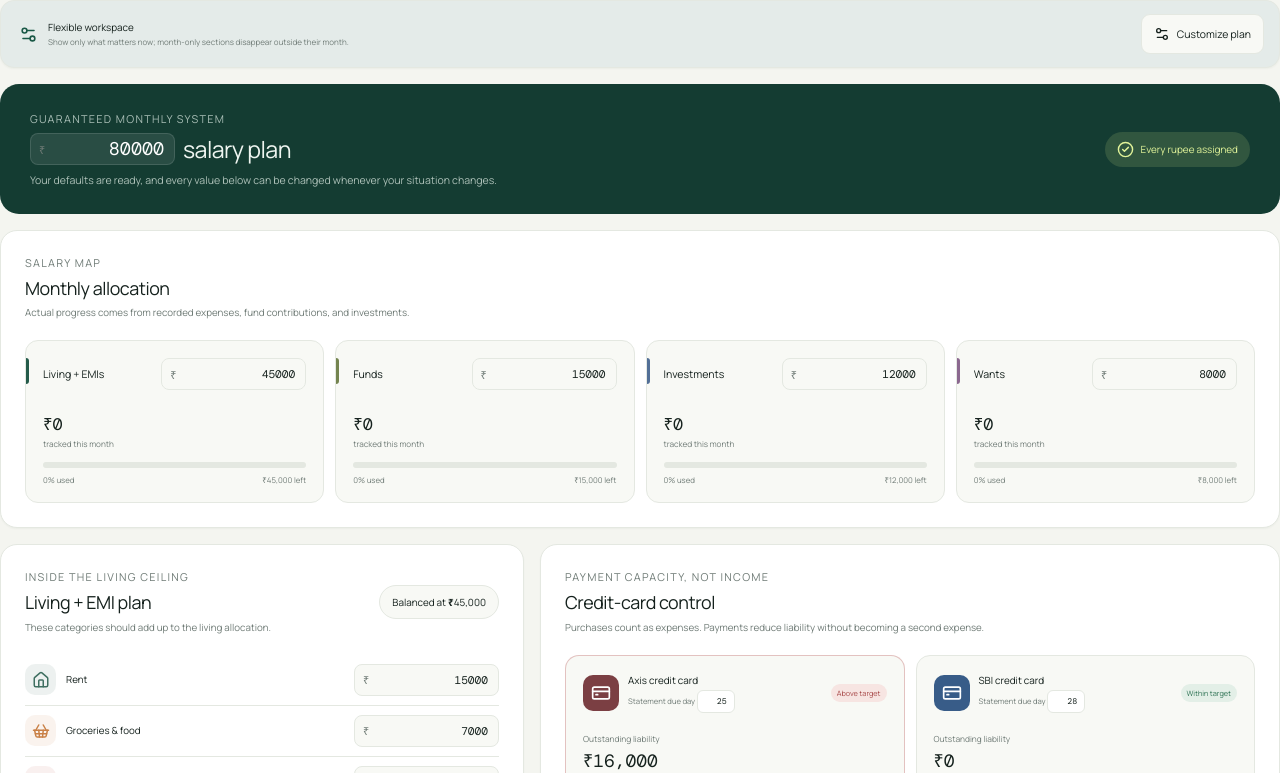
Test: Money Plan customization › can hide and safely restore a built-in section
Click the button "Customize plan": (1202, 34) [1141,14,1264,54]
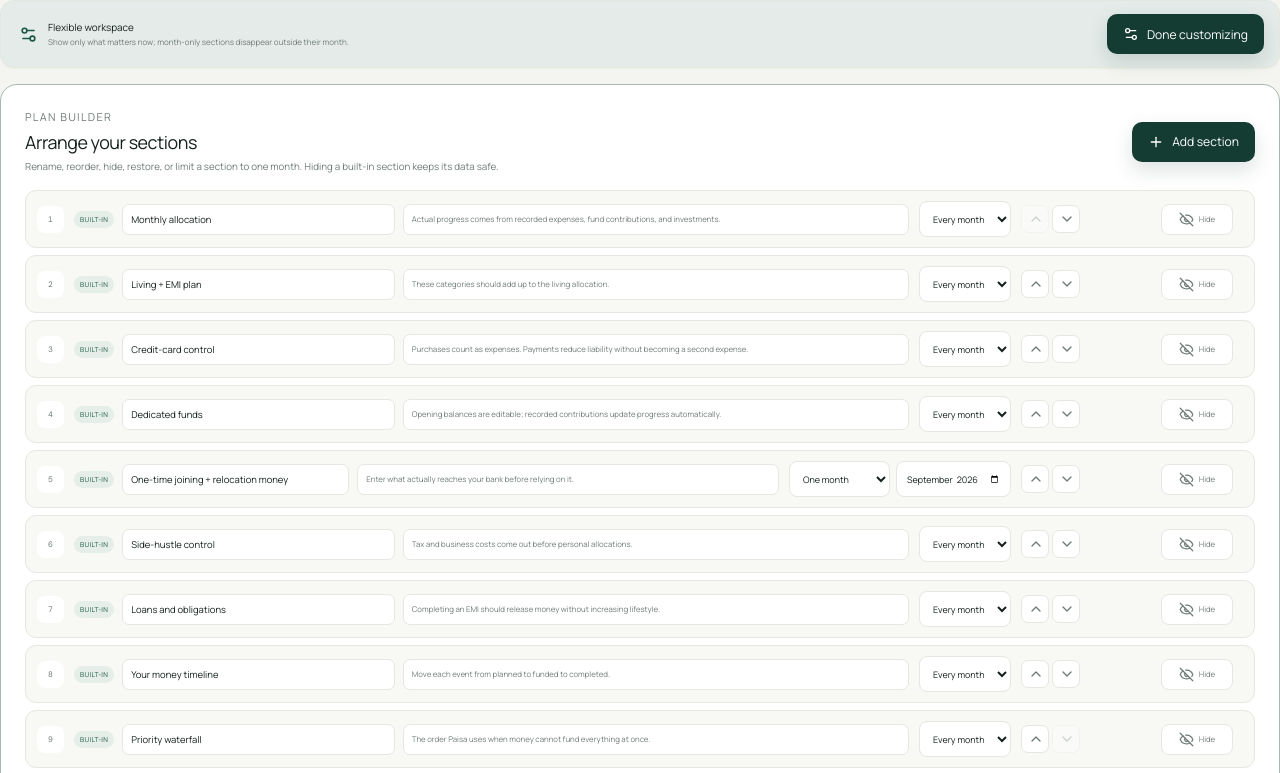
Result: the element named "Monthly allocation title" is shown at [25,190,1255,248]
Click the 1st button "Hide": (1197, 219) [1161,204,1233,235]
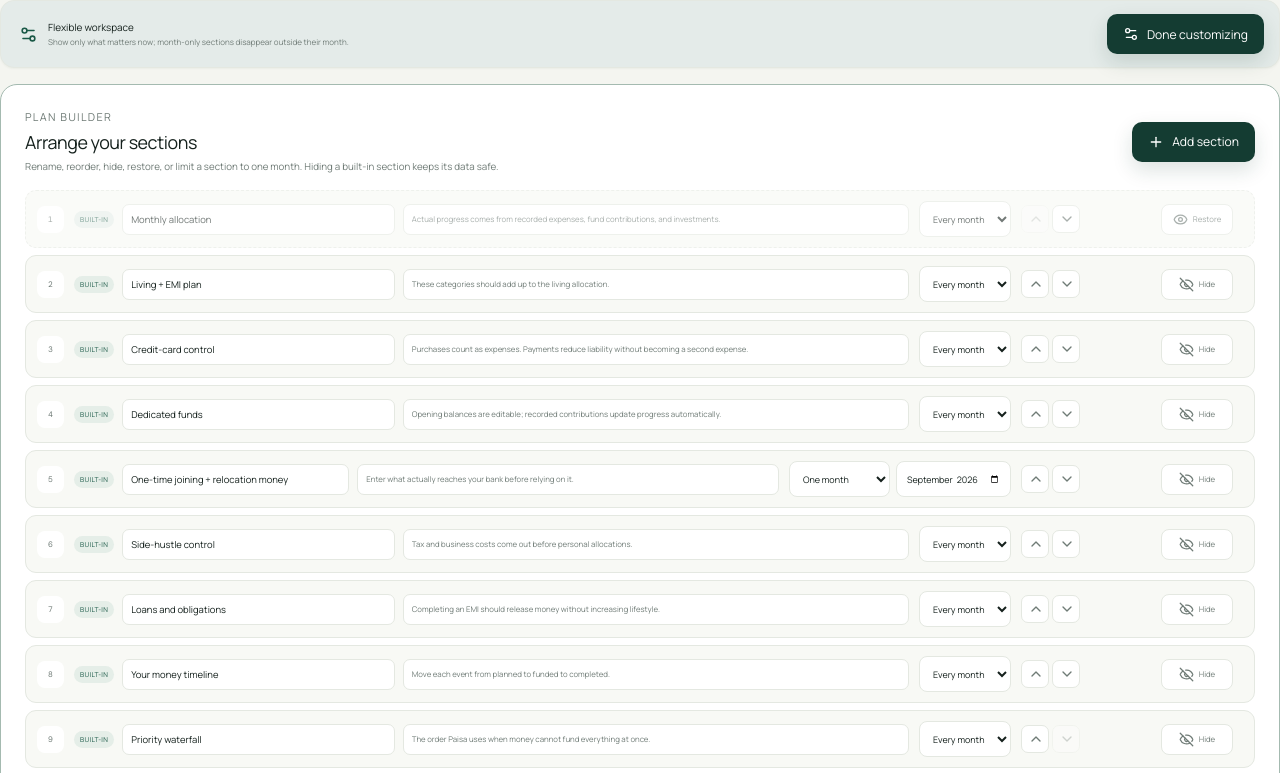
Click the button "Restore": (1197, 219) [1161,204,1233,235]
(page scrolled)
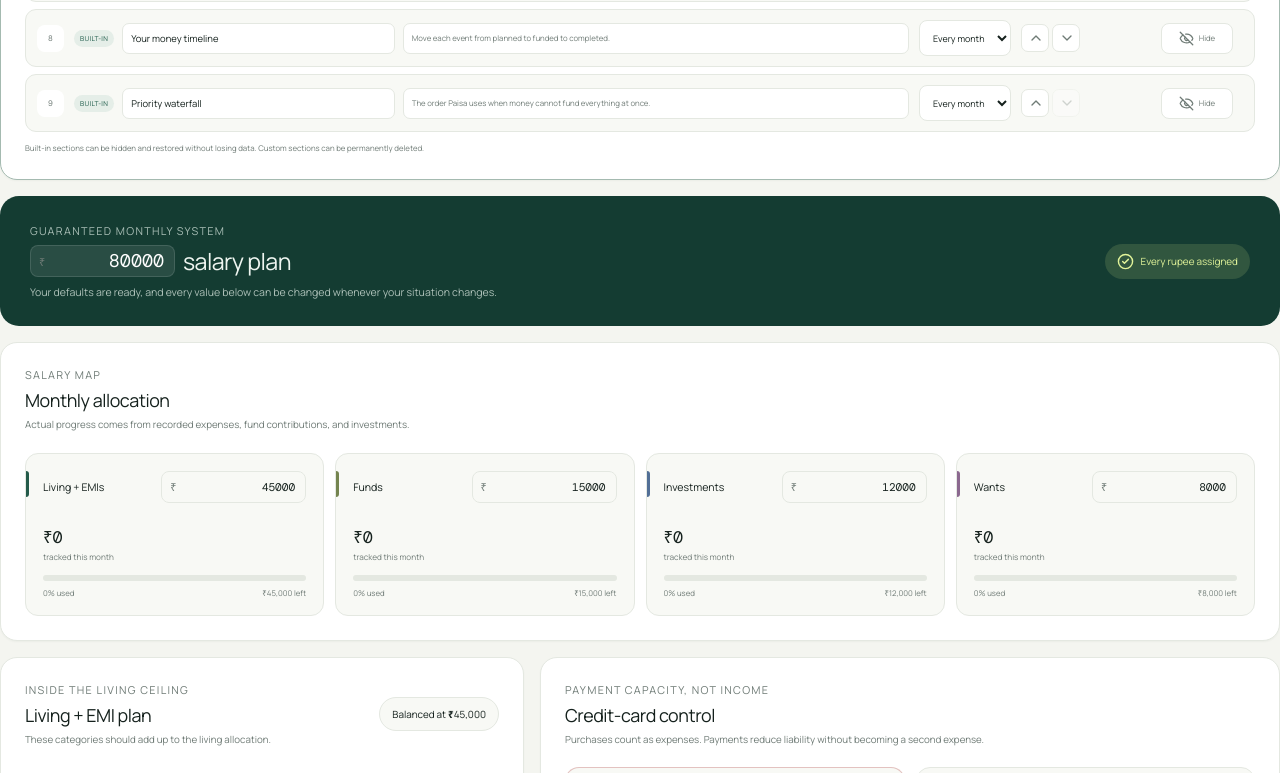
Result: the heading "Monthly allocation" is shown at [25,388,170,412]
